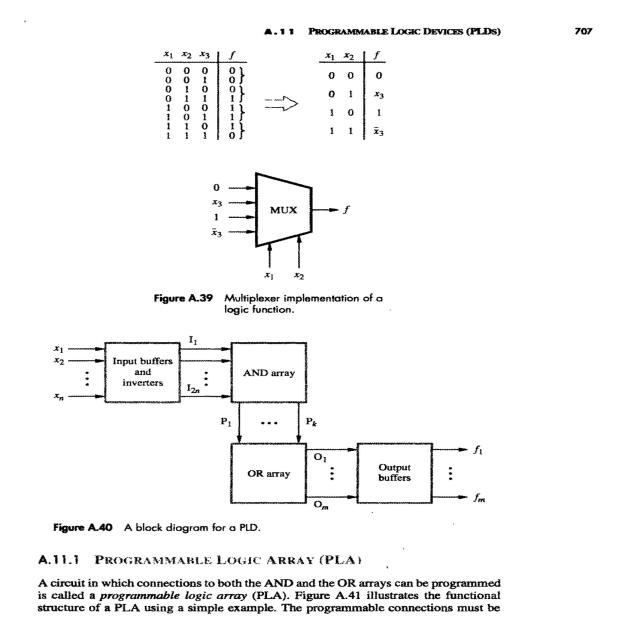diagram: (0, 49, 558, 548)
